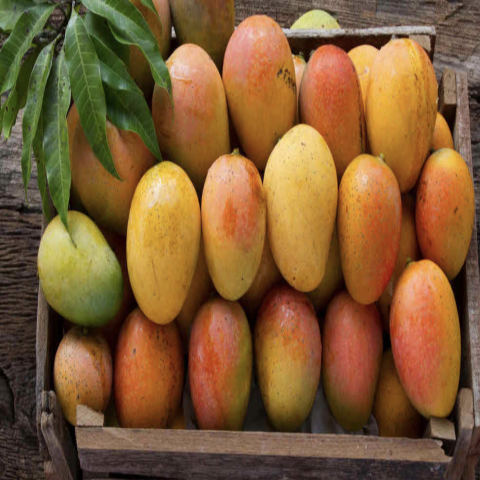mango: (257, 115, 346, 307), (357, 38, 451, 213), (122, 149, 204, 330), (384, 244, 466, 419), (213, 18, 300, 171), (333, 148, 416, 306), (188, 276, 259, 459), (28, 209, 118, 339), (193, 140, 267, 294), (313, 275, 383, 423), (411, 145, 477, 294)
